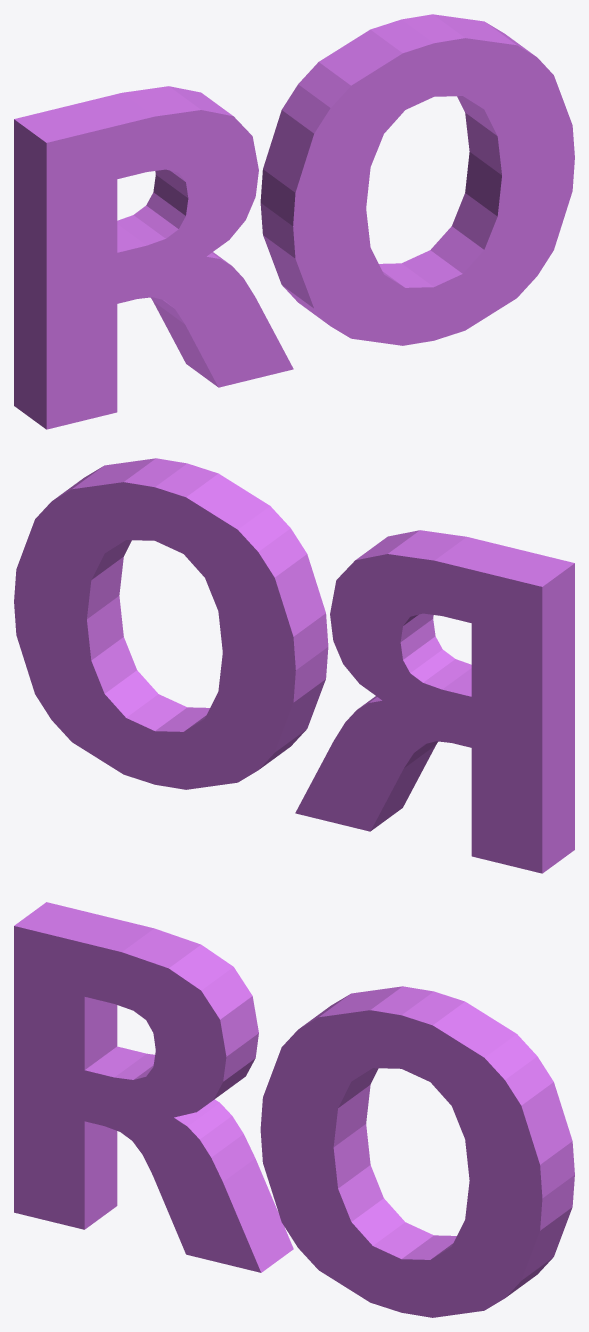
File: suku_besar_ro.glb
3 views of the same model, one above another, from view 1: azimuth 30°, elevation 25°; view 2: azimuth 150°, elevation 25°; view 3: azimuth 330°, elevation 25° (orthographic).
Parts seen in each view (by area): view 1: geometry_0; view 2: geometry_0; view 3: geometry_0.
Boxes of the visible parts, x1,y1,x2,y2 form: geometry_0: (14, 14, 574, 429); geometry_0: (14, 458, 574, 873); geometry_0: (14, 902, 574, 1317).
Bounding box in the file's own units: 14.06 × 7.56 × 1.5.
